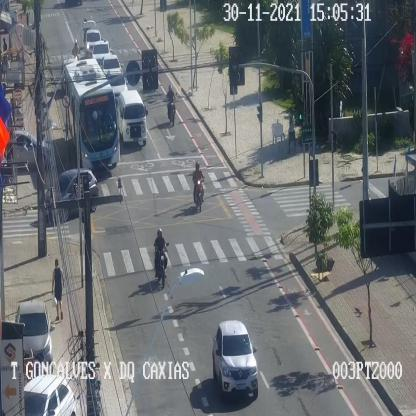bus: (64, 57, 119, 168)
car: (212, 320, 258, 395), (44, 168, 98, 219), (16, 302, 52, 372), (24, 374, 76, 416), (117, 90, 146, 144), (13, 130, 53, 167), (106, 70, 128, 100), (100, 54, 121, 80), (91, 40, 111, 65), (84, 29, 100, 55)
motorbike: (154, 228, 167, 287), (192, 161, 204, 212), (166, 84, 176, 125), (72, 39, 80, 62)
person: (51, 258, 64, 320), (288, 108, 296, 153)
